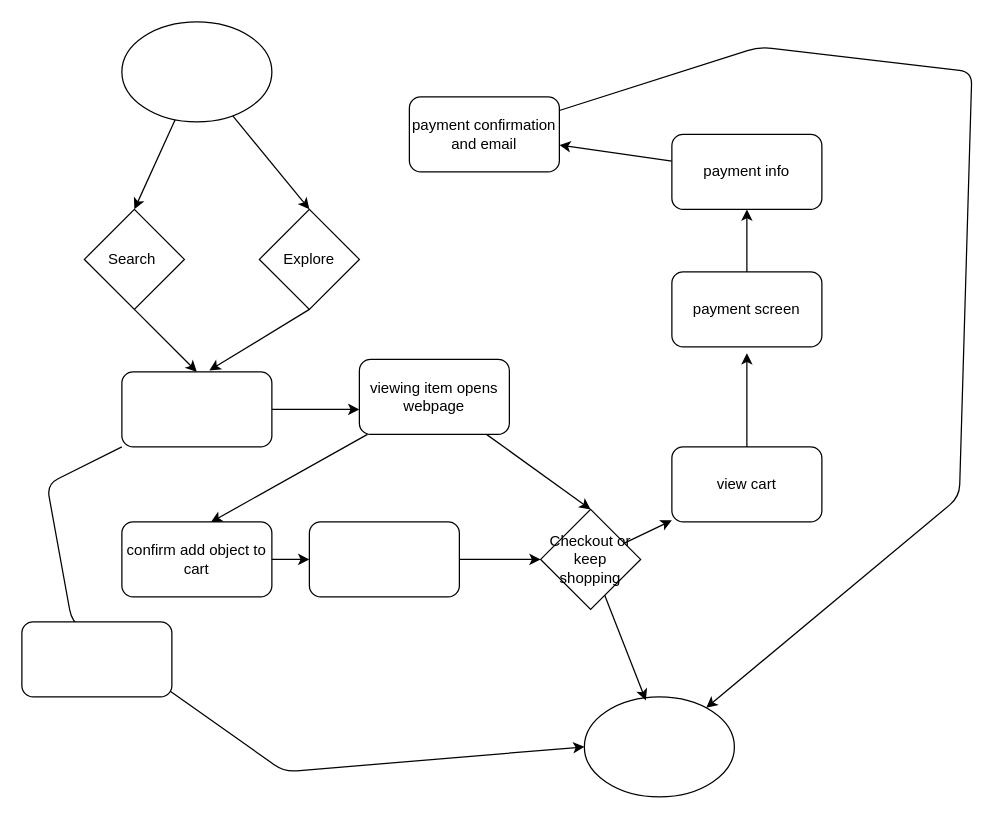
Some shapes in this 1004 by 819 pixel diagram are drawn without their labels. The shapes that lost their labels are listed below. From the top down, each one's centre as x and y in pixels, then its label:
At point 196,71: "User Enters Website".
At point 196,409: "user looks at products".
At point 383,559: "Add object to cart".
At point 96,659: "user doesnt want to keep shopping".
At point 658,746: "Leave site".
